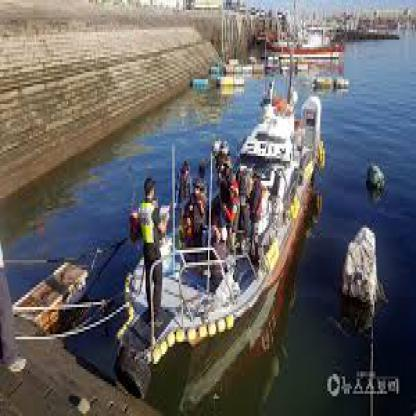Ship: (115, 85, 334, 412)
